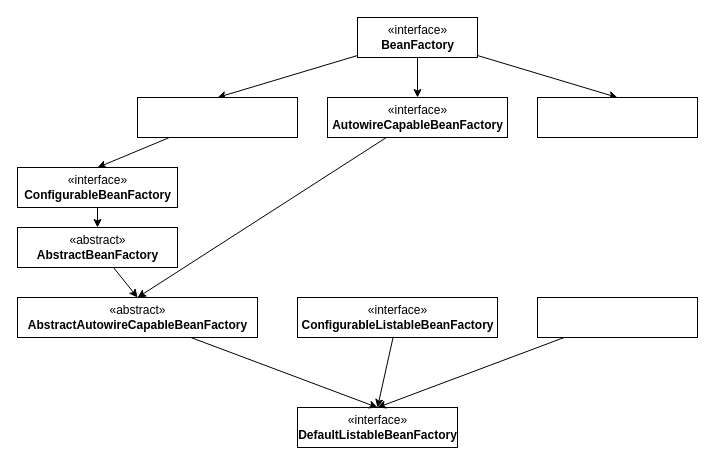
This 715x465 diagram has some shape labels left out. The shapes that lost their labels are listed below. From the top down, each one's centre as x and y in pixels, then its label:
the point at 217,117: «interface» HierarchicalBeanFactory
the point at 617,117: «interface» ListableBeanFactory
the point at 617,317: «interface» BeanDefinitionRegistry
